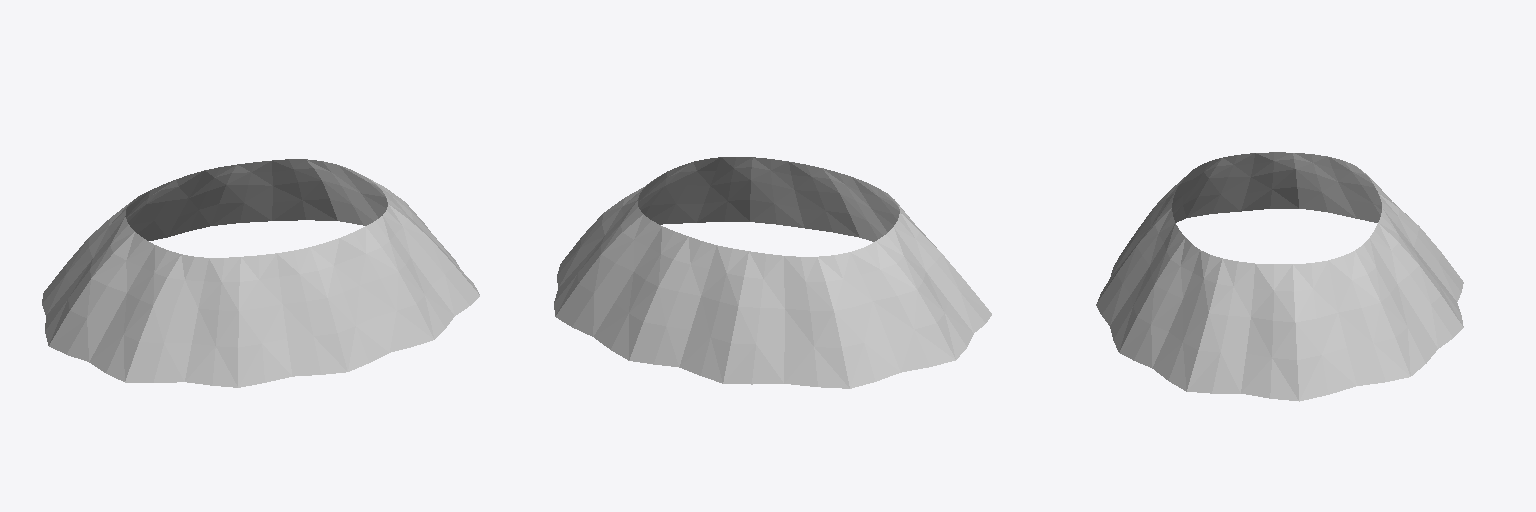
The model's file is 4_peplumfull.obj.
The picture shows the model from 3 angles: view 1: azimuth 30°, elevation 25°; view 2: azimuth 150°, elevation 25°; view 3: azimuth 270°, elevation 25°; orthographic projection.
Parts seen in each view (by area): view 1: peplumfront, peplumback; view 2: peplumback, peplumfront; view 3: peplumfront, peplumback.
Boxes of the visible parts, box(x1,y1,x2,y2) form: peplumfront: box(49, 177, 479, 387); peplumback: box(42, 159, 387, 345); peplumback: box(554, 186, 955, 388); peplumfront: box(637, 157, 991, 359); peplumfront: box(1096, 152, 1298, 400); peplumback: box(1293, 153, 1463, 401).
Bounding box in the file's own units: 16.51 × 3.91 × 13.3.